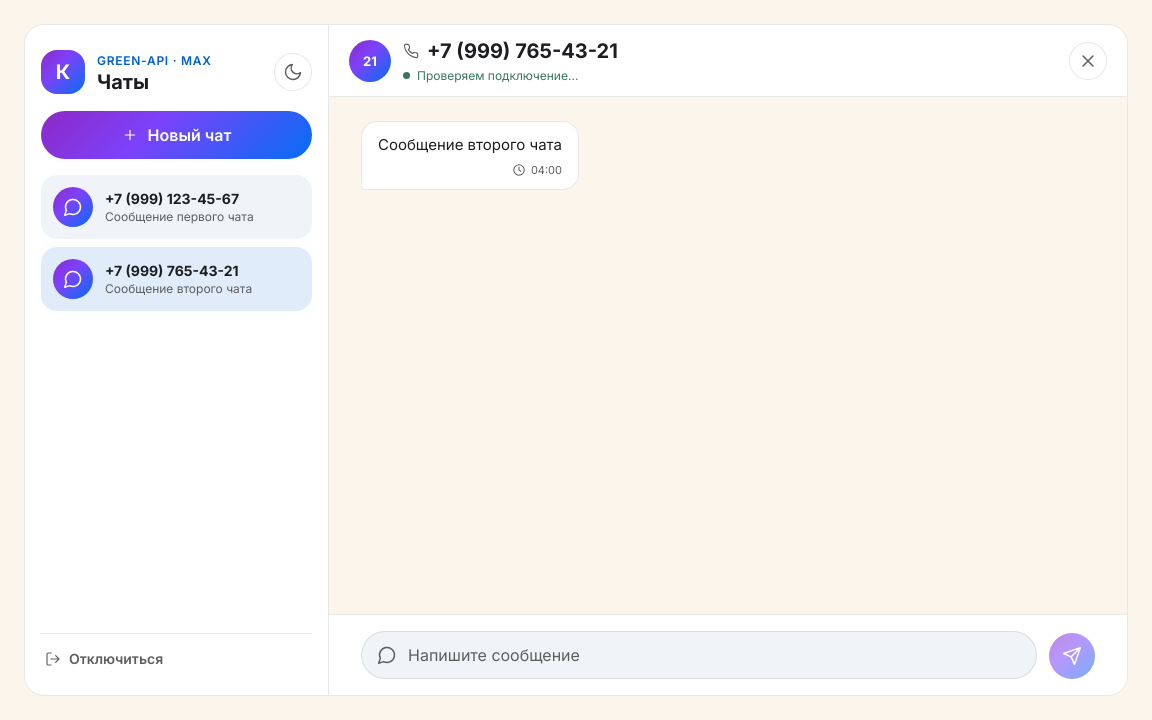
it: lists saved chats and restores the selected chat history
Expected: the text "Сообщение первого чата" is shown, x1=105 y1=209 x2=254 y2=224
Expected: the text "Сообщение второго чата" below "Чаты" is shown, x1=105 y1=281 x2=252 y2=296
Click the button "+7 (999) 123-45-67": (176, 207) x1=41 y1=175 x2=312 y2=239
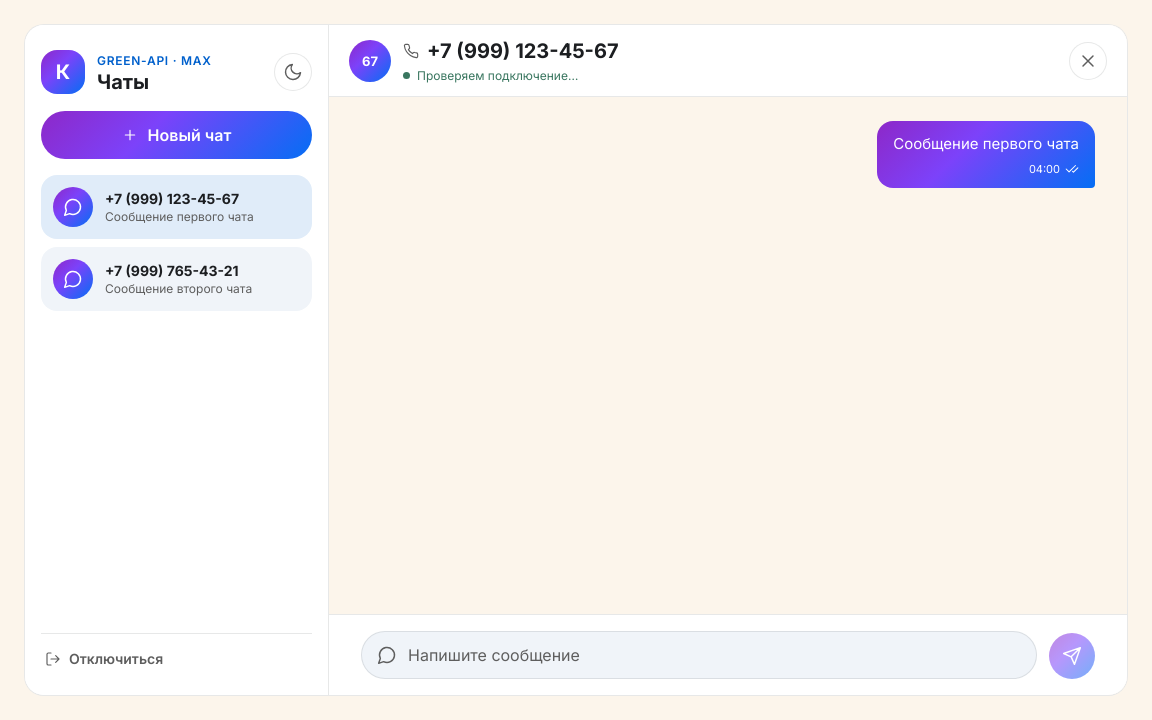
Expected: the 1st text "Сообщение первого чата" is shown, x1=893 y1=133 x2=1079 y2=156
